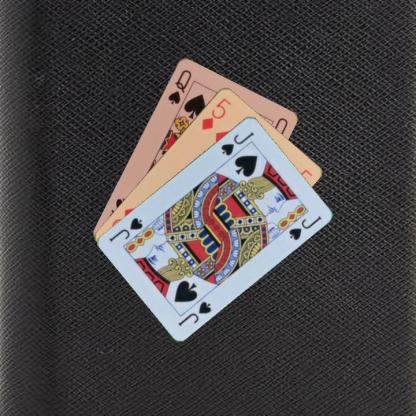5d: (199, 95, 233, 131)
Js: (175, 298, 213, 328), (218, 128, 256, 157)
Qs: (165, 67, 193, 105)
